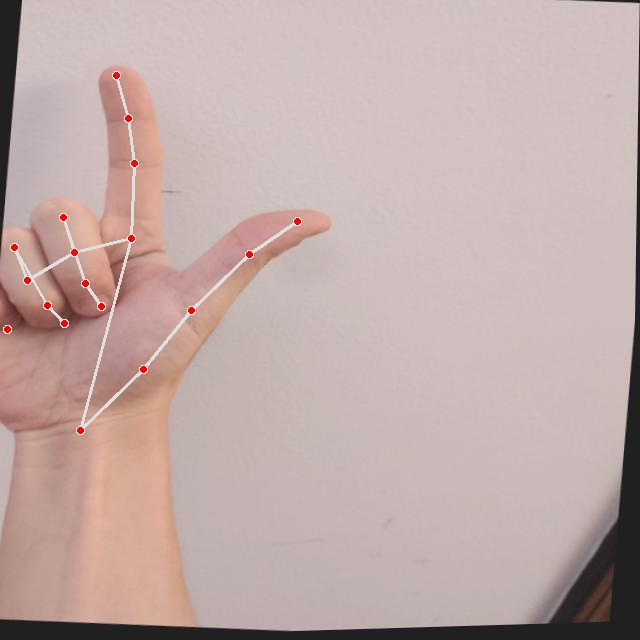L: (0, 46, 355, 469)
